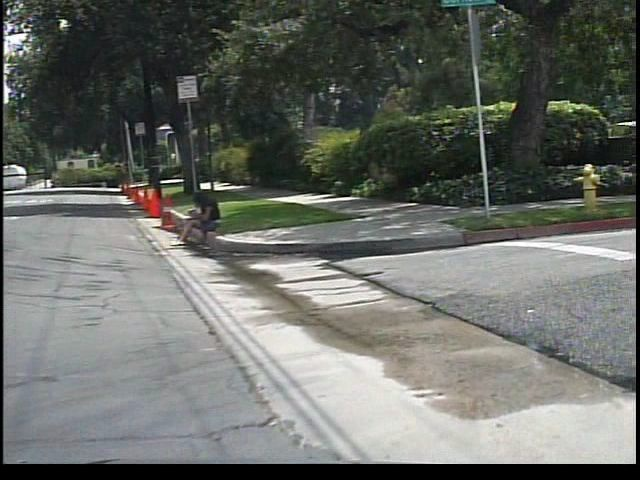person: (174, 189, 232, 247)
